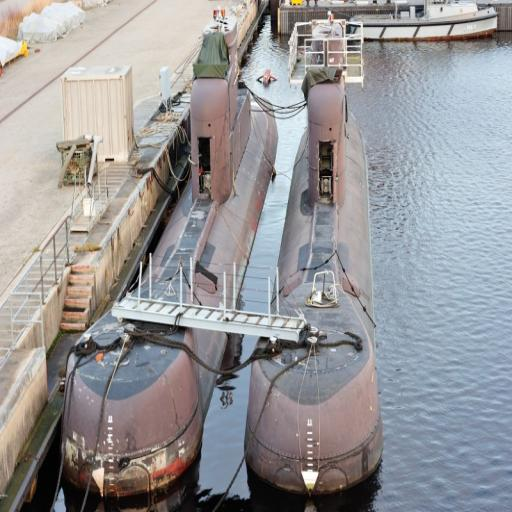submarine: (61, 14, 280, 493), (243, 24, 387, 492)
